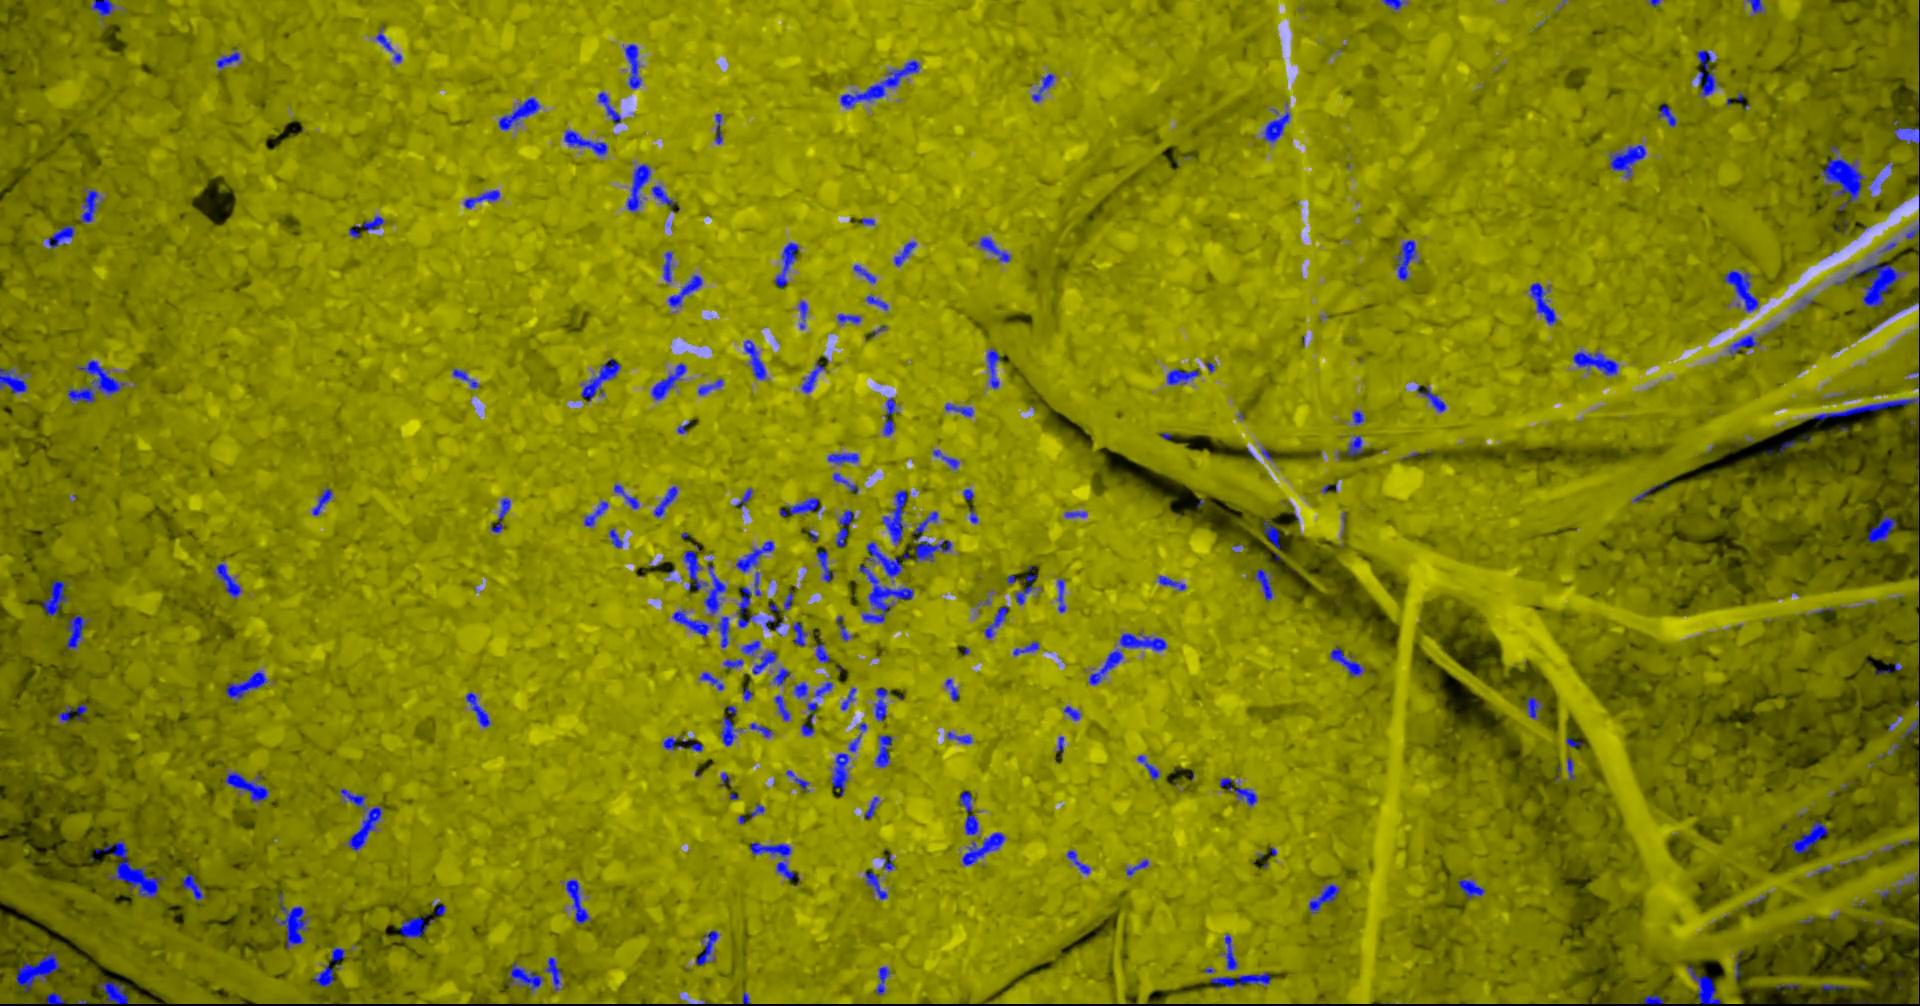ant: (839, 60, 919, 108), (858, 563, 913, 622), (1848, 260, 1907, 307), (339, 788, 382, 850), (67, 359, 124, 401), (1810, 398, 1919, 419), (273, 892, 309, 949), (749, 841, 799, 882), (912, 511, 951, 561), (580, 357, 620, 401), (15, 951, 58, 991), (961, 832, 1004, 865), (1723, 271, 1757, 311), (498, 97, 540, 130), (225, 671, 268, 702), (223, 771, 268, 801), (881, 489, 905, 544), (865, 541, 902, 577), (311, 946, 344, 986), (1686, 965, 1719, 1005), (703, 560, 728, 614), (737, 572, 759, 627), (1789, 821, 1827, 854), (650, 363, 684, 399), (1608, 144, 1644, 177), (735, 540, 773, 572), (1006, 565, 1036, 605), (1088, 649, 1123, 683), (667, 274, 702, 307), (1529, 282, 1557, 324), (626, 163, 650, 211), (563, 130, 607, 155), (565, 879, 590, 923), (775, 243, 799, 288), (1572, 351, 1618, 375), (683, 544, 707, 589), (1209, 970, 1270, 988), (1219, 777, 1256, 807), (670, 608, 709, 636), (1330, 645, 1364, 676), (507, 962, 542, 991), (41, 579, 69, 615), (375, 25, 401, 62), (1892, 119, 1919, 156), (1697, 50, 1717, 97), (1879, 873, 1919, 897), (215, 563, 241, 598), (1308, 883, 1338, 913), (957, 790, 978, 835), (743, 339, 766, 379), (1865, 513, 1896, 542), (1394, 239, 1416, 279), (778, 495, 822, 516), (1117, 633, 1166, 650), (1262, 111, 1289, 142), (348, 215, 385, 238), (695, 929, 717, 965), (801, 358, 825, 392), (465, 692, 489, 727), (830, 752, 850, 795), (1416, 384, 1445, 412), (65, 614, 88, 649), (397, 915, 433, 937), (623, 43, 641, 88), (978, 236, 1010, 260), (653, 485, 677, 517), (97, 981, 128, 1005), (597, 91, 620, 124), (984, 605, 1007, 638), (79, 188, 100, 222), (1632, 481, 1667, 502), (490, 497, 510, 532), (1031, 72, 1055, 102), (1727, 334, 1759, 356), (463, 189, 499, 208), (0, 367, 27, 392), (46, 224, 74, 248), (863, 871, 888, 899), (719, 716, 742, 746), (182, 873, 206, 899), (985, 347, 1001, 387), (613, 483, 637, 508), (583, 500, 607, 526), (836, 509, 852, 546), (1253, 568, 1272, 600), (1457, 878, 1484, 899), (663, 735, 702, 751), (874, 734, 891, 767), (543, 956, 561, 989), (1065, 848, 1090, 873), (767, 591, 792, 614), (57, 702, 88, 721), (1137, 754, 1159, 780), (311, 486, 331, 514), (800, 701, 817, 735), (815, 550, 833, 582), (883, 398, 898, 434), (893, 241, 916, 265), (752, 650, 776, 673), (874, 688, 890, 721), (932, 448, 959, 469), (832, 473, 858, 493), (785, 770, 809, 791), (848, 721, 866, 751), (1166, 368, 1199, 384), (1223, 934, 1237, 969), (215, 48, 239, 69), (452, 368, 477, 387), (1263, 520, 1280, 549), (836, 615, 853, 641), (1903, 220, 1919, 250), (651, 185, 676, 205), (698, 671, 723, 690), (89, 0, 114, 18), (697, 377, 723, 395), (943, 401, 973, 417), (1900, 716, 1919, 739), (1657, 104, 1676, 126), (1157, 575, 1186, 589), (875, 967, 889, 995), (716, 616, 729, 647), (792, 621, 808, 647), (1012, 640, 1037, 655), (775, 695, 790, 720), (853, 264, 875, 282), (865, 293, 888, 310), (1125, 859, 1148, 875), (1876, 661, 1902, 674), (1346, 434, 1363, 456), (735, 486, 752, 508), (1525, 696, 1542, 718), (749, 721, 771, 737), (863, 796, 879, 818), (662, 250, 672, 282), (827, 453, 858, 464), (946, 730, 971, 743), (841, 687, 855, 710), (1057, 578, 1065, 612), (943, 678, 957, 700), (797, 300, 808, 329), (772, 667, 789, 685), (608, 528, 623, 547), (740, 640, 759, 655), (813, 681, 832, 696), (714, 113, 723, 144), (815, 643, 829, 662), (792, 681, 808, 697), (1063, 705, 1079, 720), (836, 312, 860, 323), (1643, 993, 1663, 1005), (1746, 0, 1764, 13), (46, 992, 63, 1005), (1382, 0, 1403, 10), (749, 803, 764, 817), (1820, 983, 1848, 991), (883, 855, 895, 871), (723, 658, 743, 668), (1735, 950, 1741, 981), (1566, 757, 1575, 779), (433, 902, 444, 915), (1352, 410, 1363, 424), (1064, 511, 1086, 517), (963, 488, 973, 500)
